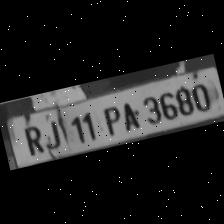0: (188, 78, 215, 114)
1: (76, 103, 100, 142), (68, 110, 85, 146)
3: (138, 92, 163, 126)
6: (154, 87, 178, 122)
8: (172, 83, 196, 118)
A: (115, 97, 143, 133)
J: (39, 114, 67, 152)
P: (96, 102, 126, 138)
R: (17, 119, 46, 158)
